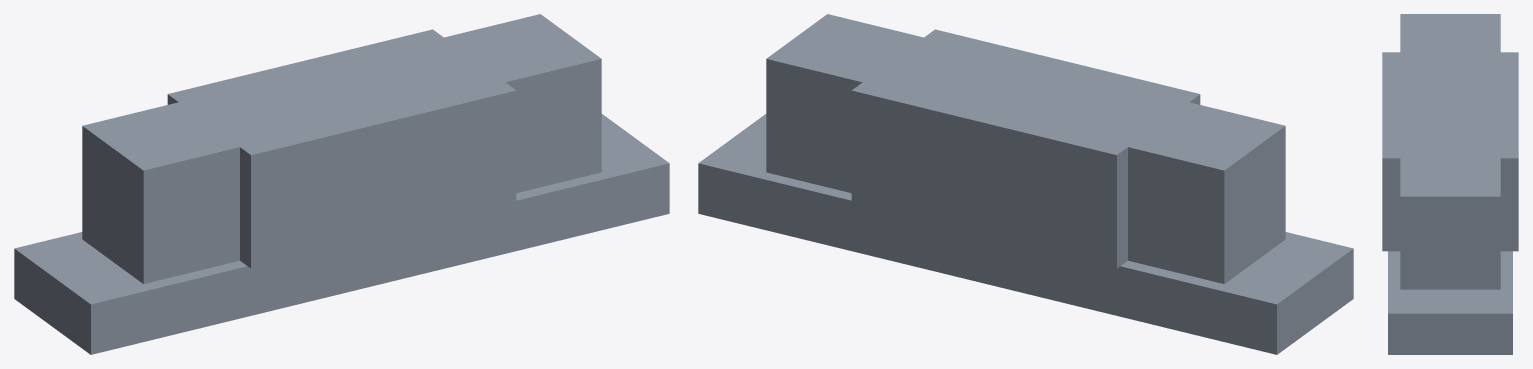
Rendered from step_02.glb.
3 views of the same model, side by side, from view 1: azimuth 30°, elevation 25°; view 2: azimuth 150°, elevation 25°; view 3: azimuth 270°, elevation 25° (orthographic). The views are drawn at different scales.
Visible parts, largest first — view 1: part__housing base; view 2: part__housing base; view 3: part__housing base.
Part boxes in pixels (x1,y1,x2,y2): part__housing base: (14, 14, 669, 354); part__housing base: (698, 14, 1353, 354); part__housing base: (1382, 14, 1518, 354).
Bounding box in the file's own units: 240 × 65 × 60.
